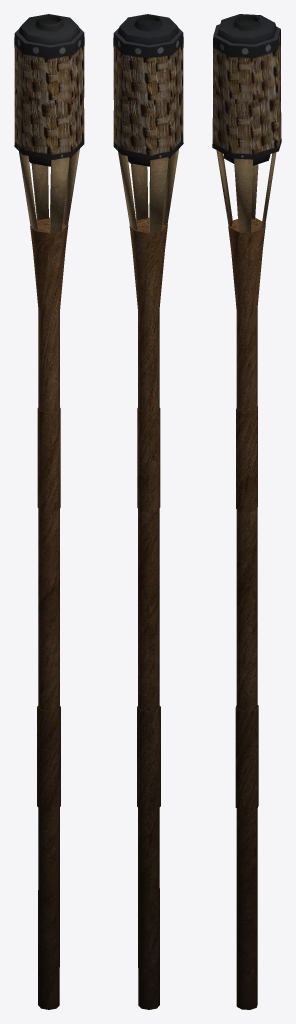
Rendered from Outdoor_Torch.glb.
The picture shows the model from 3 angles, left to right: view 1: azimuth 30°, elevation 25°; view 2: azimuth 210°, elevation 25°; view 3: azimuth 270°, elevation 25°; orthographic projection.
Visible parts, largest first — view 1: defaultMaterial; view 2: defaultMaterial; view 3: defaultMaterial.
Part boxes in pixels (x1=…): defaultMaterial: x1=14, y1=14, x2=84, y2=1009; defaultMaterial: x1=113, y1=14, x2=183, y2=1009; defaultMaterial: x1=212, y1=14, x2=281, y2=1009.
Bounding box in the file's own units: 0.127 × 2 × 0.127.
Materials: 1 (1 with a texture image).
